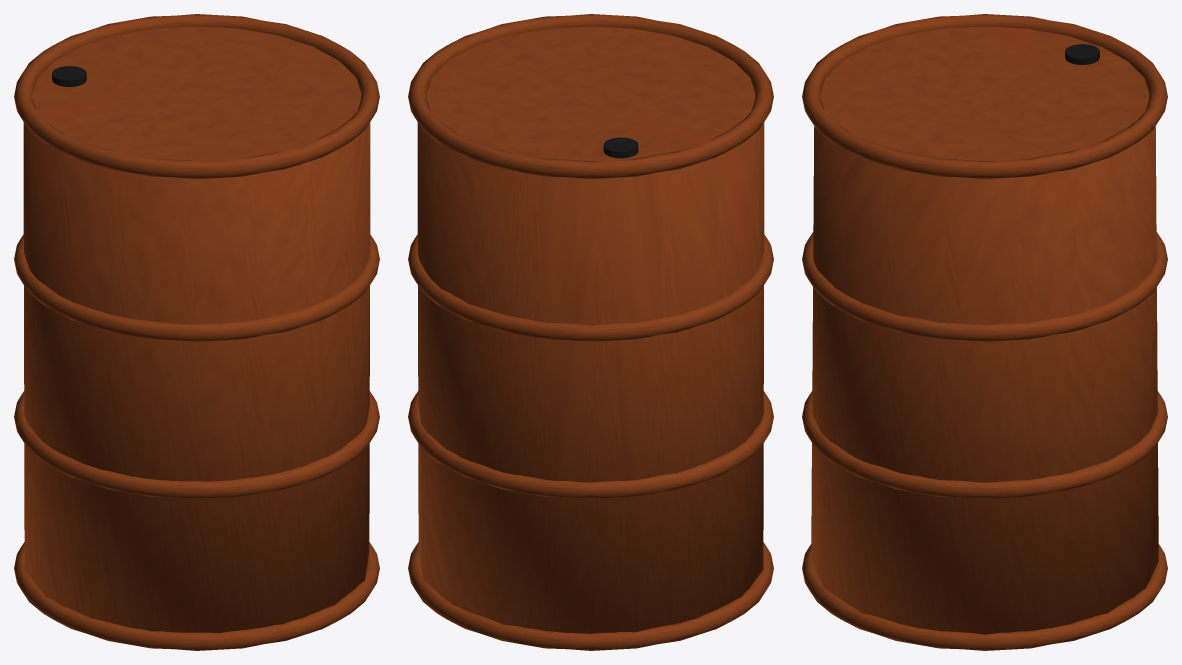
File: oil_barrel.glb
The picture shows the model from 3 angles, left to right: view 1: azimuth 30°, elevation 25°; view 2: azimuth 150°, elevation 25°; view 3: azimuth 270°, elevation 25°; orthographic projection.
Visible parts, largest first — view 1: Cylinder; view 2: Cylinder; view 3: Cylinder.
Boxes of the visible parts, x1,y1,x2,y2 form: Cylinder: (14, 14, 379, 650); Cylinder: (408, 14, 773, 650); Cylinder: (802, 14, 1167, 650).
Size of the model in its own units: 2.1 by 3.1 by 2.1.
Materials: 4 (3 with a texture image).
